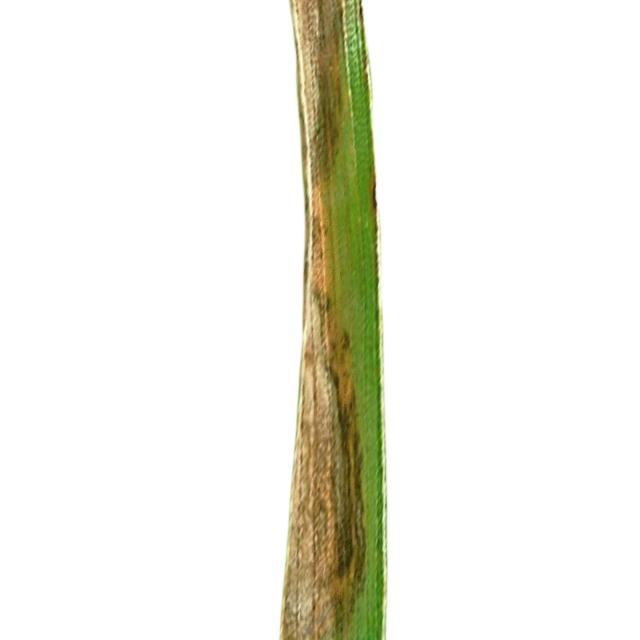Leaf scald: (170, 0, 544, 640)
